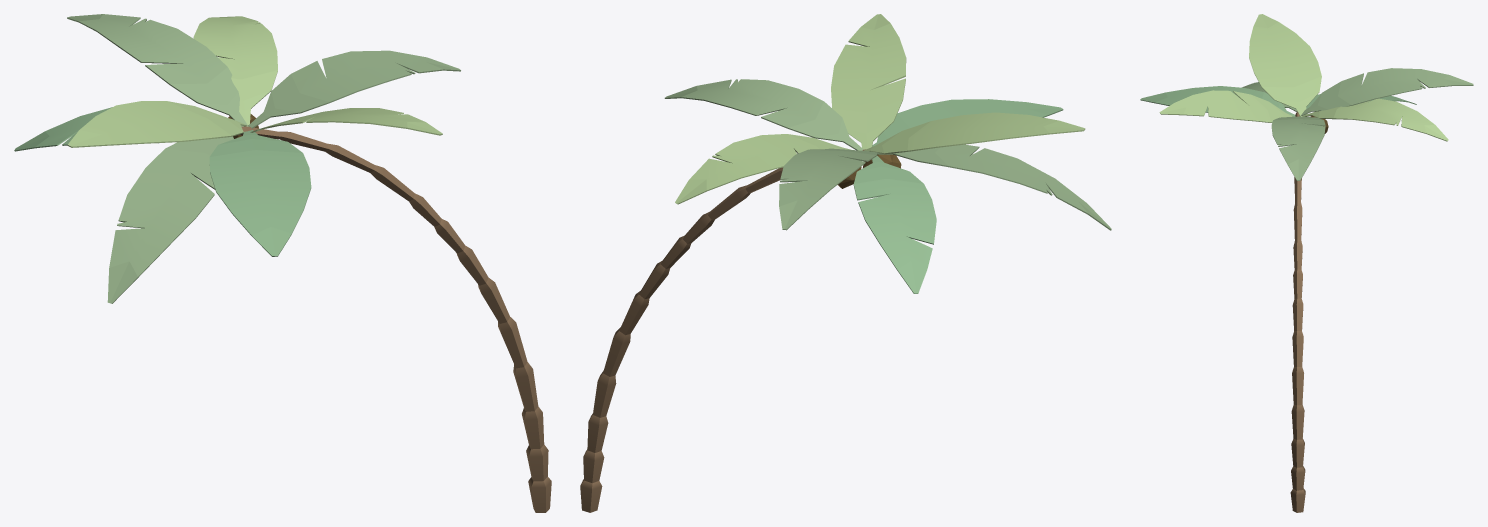
The model's file is palmTree 1.fbx.
3 views of the same model, side by side, from view 1: azimuth 30°, elevation 25°; view 2: azimuth 150°, elevation 25°; view 3: azimuth 270°, elevation 25° (orthographic). The views are drawn at different scales.
Parts seen in each view (by area): view 1: pPlane8, pPlane4, pCylinder23, pPlane9, pPlane6, pPlane5, pPlane7, pPlane10, pPlane2; view 2: pPlane10, pPlane2, pCylinder23, pPlane6, pPlane5, pPlane7, pPlane9, pPlane8, pPlane4; view 3: pPlane5, pCylinder23, pPlane9, pPlane10, pPlane6, pPlane7, pPlane4.
Part boxes in pixels (box(x1,y1,x2,y2)): pPlane8: box(107, 136, 233, 303); pPlane4: box(209, 130, 311, 256); pCylinder23: box(240, 126, 551, 512); pPlane9: box(67, 14, 248, 126); pPlane6: box(248, 50, 460, 128); pPlane5: box(67, 101, 249, 147); pPlane7: box(193, 16, 277, 124); pPlane10: box(250, 108, 442, 135); pPlane2: box(14, 107, 158, 151); pPlane10: box(831, 14, 906, 149); pPlane2: box(853, 155, 936, 293); pCylinder23: box(580, 149, 865, 512); pPlane6: box(664, 79, 863, 150); pPlane5: box(863, 112, 1085, 154); pPlane7: box(675, 134, 851, 204); pPlane9: box(779, 148, 877, 230); pPlane8: box(877, 144, 1111, 230); pPlane4: box(872, 99, 1063, 146); pPlane5: box(1249, 14, 1321, 116); pCylinder23: box(1290, 112, 1305, 512); pPlane9: box(1299, 68, 1473, 116); pPlane10: box(1159, 90, 1292, 122); pPlane6: box(1271, 116, 1325, 180); pPlane7: box(1302, 98, 1448, 141); pPlane4: box(1140, 86, 1295, 116).
Size of the model in its own units: 13.5 by 12.85 by 11.58.
